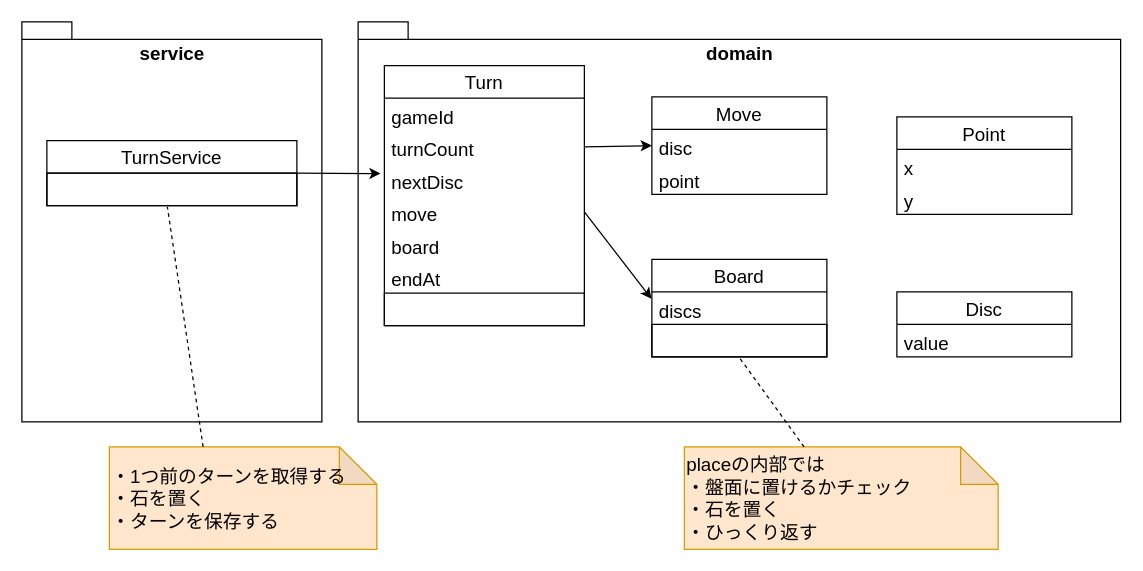
This 1143x571 diagram has some shape labels left out. Each missing label, with the centre of its shape:
place(move): Borad: the point at 739,340
placeNext(disc, point): Turn: the point at 483,309
registerTurn(turnCount, disc, x, y): the point at 171,189
